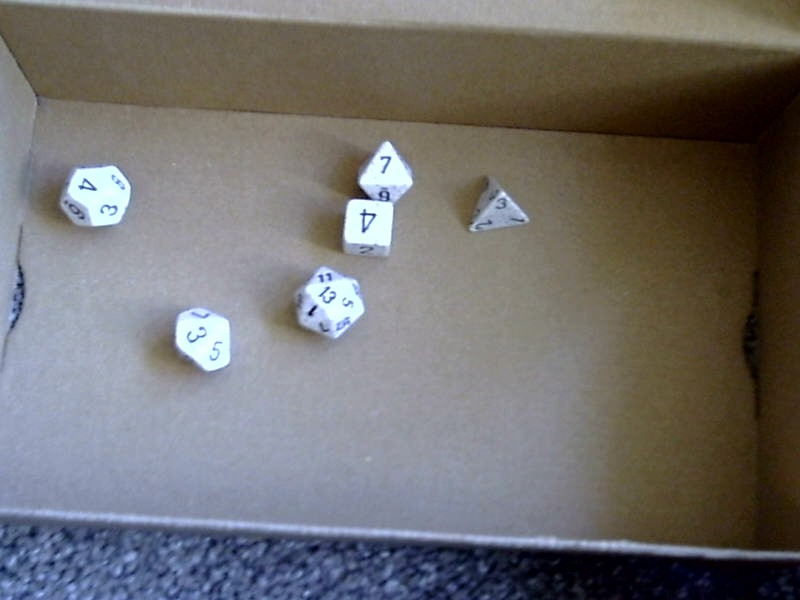d10 3: (169, 296, 237, 378)
d12 4: (54, 152, 135, 233)
d20 13: (286, 264, 368, 343)
d4 3: (465, 169, 530, 238)
d6 4: (332, 197, 399, 261)
d8 7: (349, 131, 424, 202)
